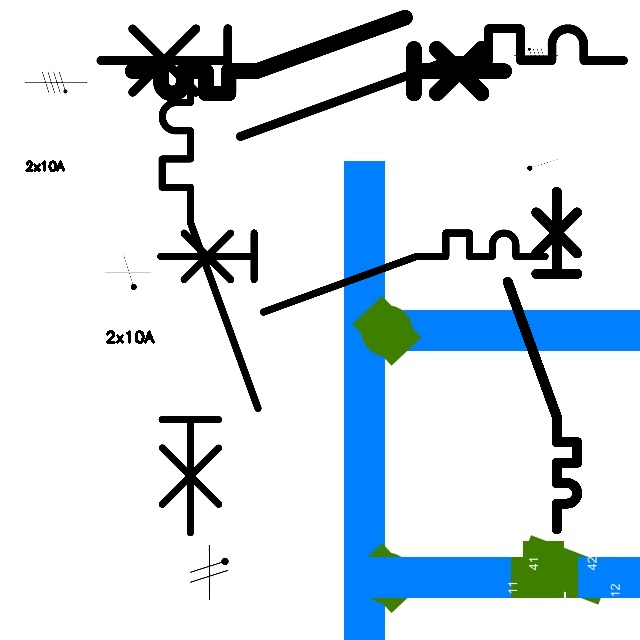interruptor_termomagnetico: (87, 15, 637, 149), (150, 55, 270, 544), (150, 223, 555, 322), (123, 8, 514, 103), (499, 183, 586, 538)
